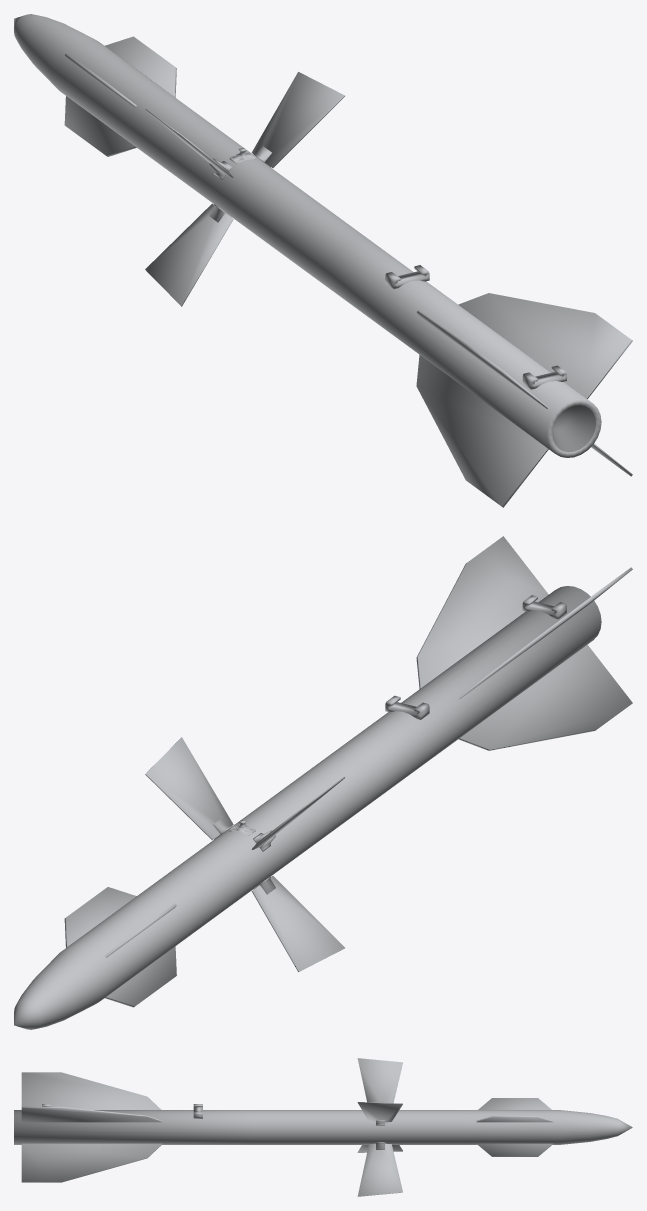
The picture shows the model from 3 angles, top to bottom: view 1: azimuth 30°, elevation 25°; view 2: azimuth 150°, elevation 25°; view 3: azimuth 270°, elevation 25°; orthographic projection. The views are drawn at different scales.
Visible parts, largest first — view 1: aa10_body; view 2: aa10_body; view 3: aa10_body.
Part boxes in pixels (bbox=[...]): aa10_body: bbox=[14, 14, 632, 507]; aa10_body: bbox=[14, 536, 632, 1029]; aa10_body: bbox=[14, 1058, 632, 1196].
Size of the model in its own units: 0.6438 by 0.6438 by 3.8.
1 material, 1 textured.
